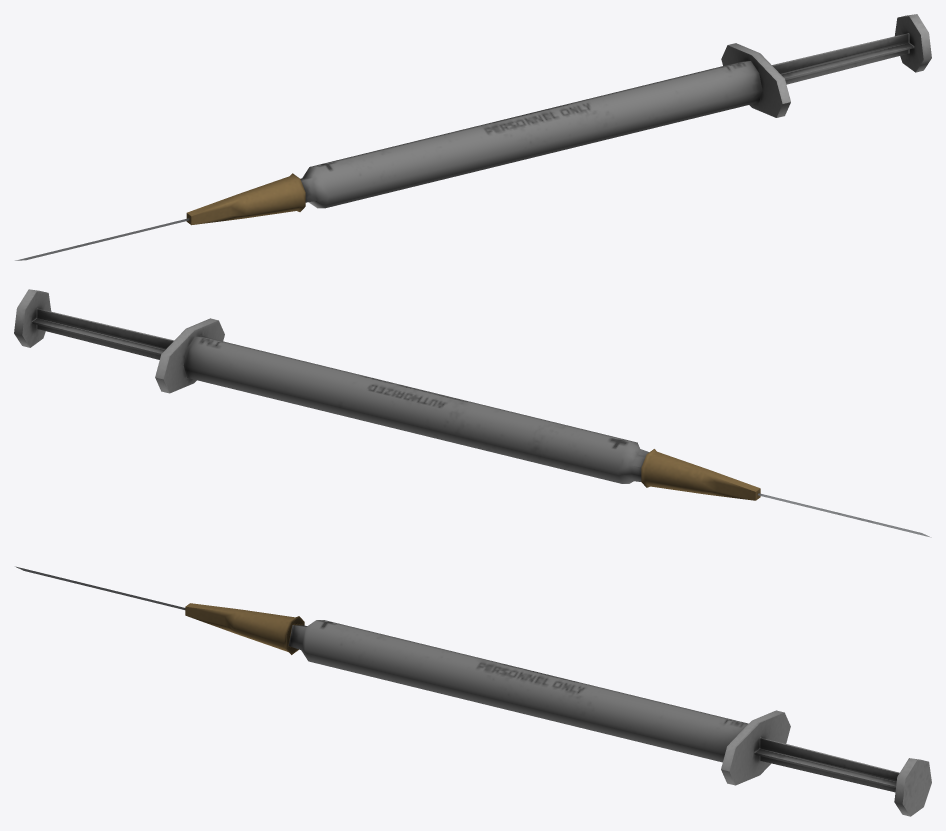
Rendered from Syringe_02.fbx.
3 renders of one model, top to bottom at view 1: azimuth 30°, elevation 25°; view 2: azimuth 150°, elevation 25°; view 3: azimuth 330°, elevation 25°, orthographic.
Visible parts, largest first — view 1: Syringe; view 2: Syringe; view 3: Syringe.
Boxes of the visible parts, x1,y1,x2,y2 form: Syringe: (15,14,931,260); Syringe: (14,289,931,537); Syringe: (15,566,931,816).
Size of the model in its own units: 15.02 by 0.8508 by 1.77.
Materials: 1 (1 with a texture image).
